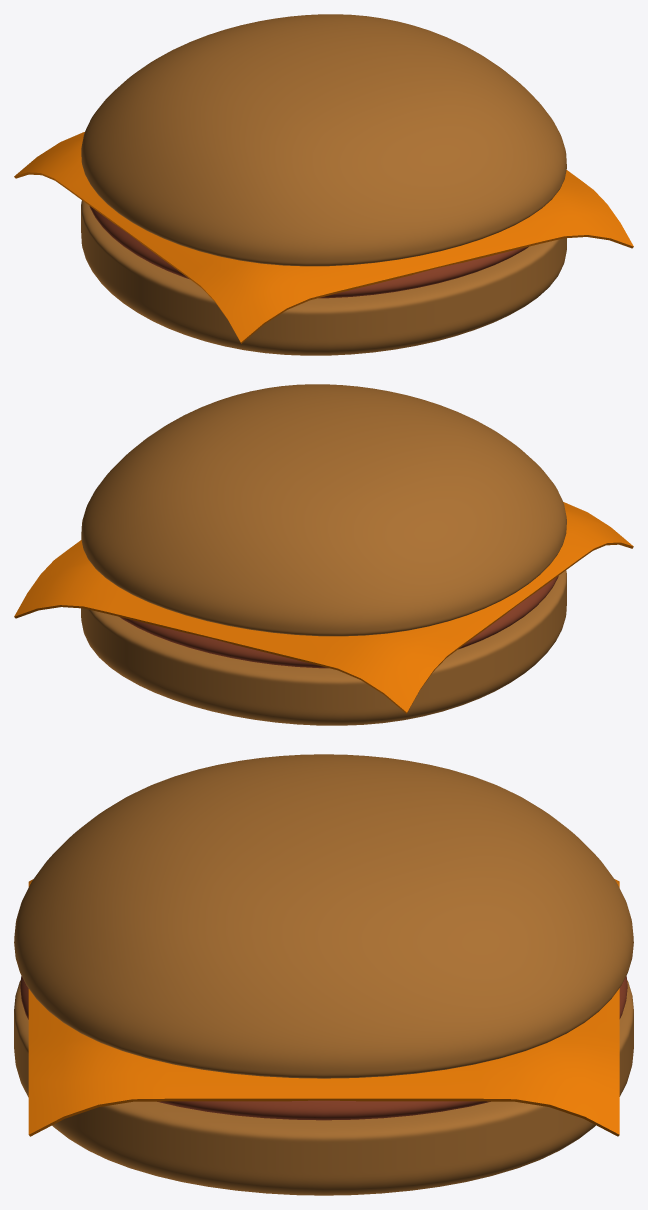
Rendered from Hamburger2.glb.
3 renders of one model, top to bottom at view 1: azimuth 30°, elevation 25°; view 2: azimuth 150°, elevation 25°; view 3: azimuth 270°, elevation 25°, orthographic. The views are drawn at different scales.
Parts seen in each view (by area): view 1: Cube.002, Cube, Plane, Cube.001; view 2: Cube.002, Cube, Plane, Cube.001; view 3: Cube.002, Cube, Plane, Cube.001.
Boxes of the visible parts, x1,y1,x2,y2 form: Cube.002: (81,14,566,266); Cube: (81,200,566,355); Plane: (14,132,633,343); Cube.001: (89,206,528,298); Cube.002: (81,384,566,636); Cube: (81,570,566,725); Plane: (14,502,633,713); Cube.001: (120,576,558,668); Cube.002: (14,754,633,1078); Cube: (14,980,633,1195); Plane: (28,879,619,1136); Cube.001: (20,976,627,1120).
Size of the model in its own units: 9.04 by 4.68 by 9.04.
